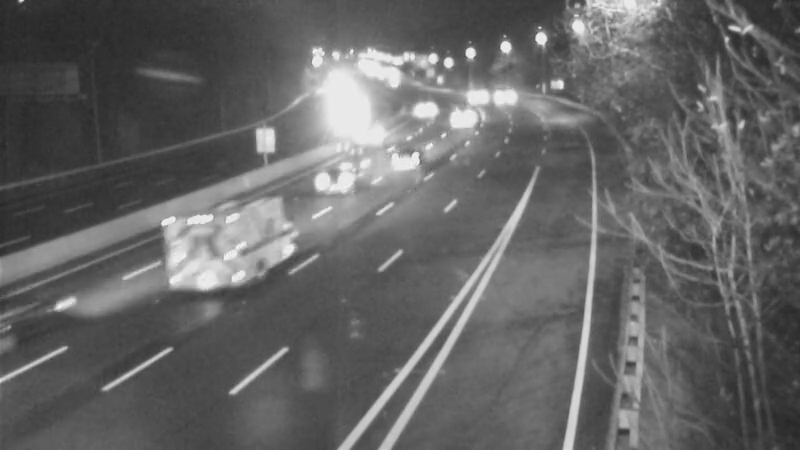vehicle: (365, 124, 445, 204), (310, 141, 390, 221), (164, 214, 244, 294), (449, 66, 499, 116), (477, 72, 527, 122), (394, 85, 444, 135), (432, 91, 482, 141), (342, 114, 392, 164)
